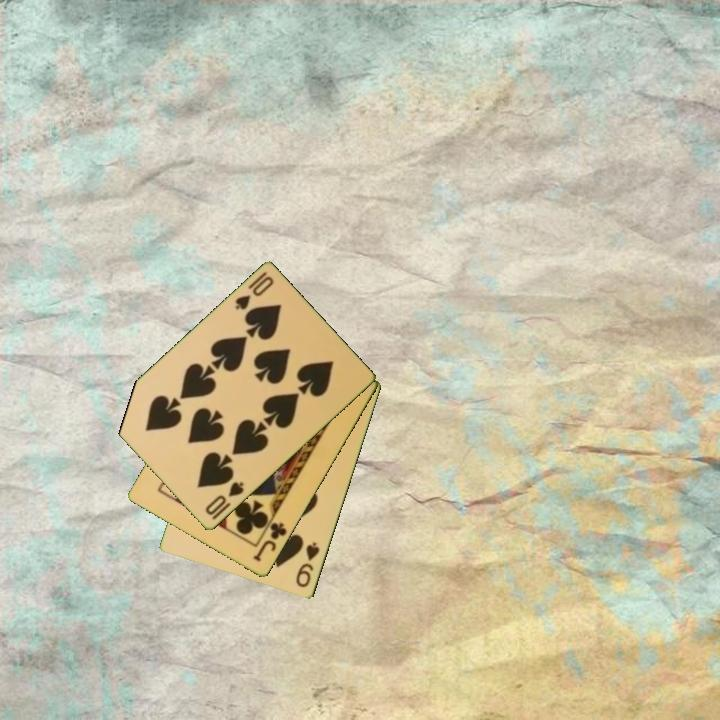10s: (231, 268, 277, 313), (202, 478, 247, 519)
9s: (293, 539, 323, 591)
Jc: (250, 519, 290, 565)
